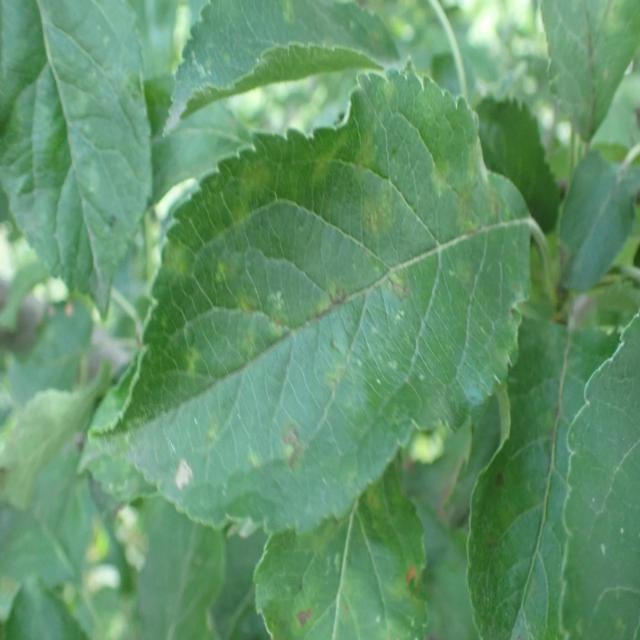scab: (139, 113, 516, 499), (273, 515, 408, 640)
